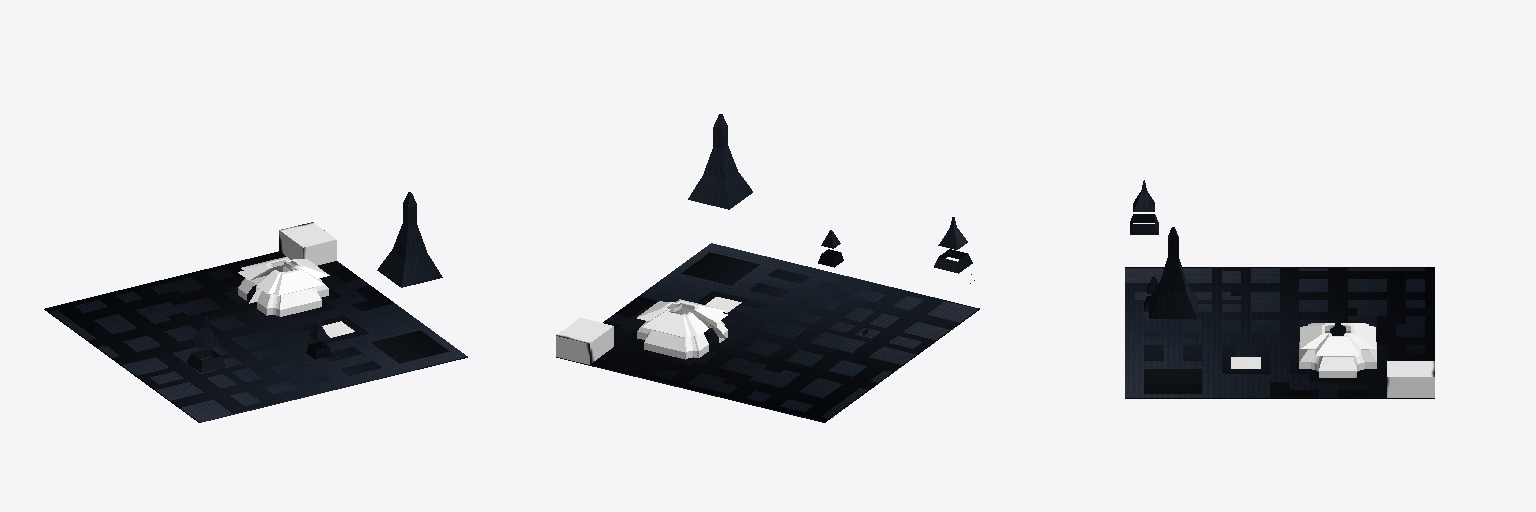
3 renders of one model, left to right at view 1: azimuth 30°, elevation 25°; view 2: azimuth 150°, elevation 25°; view 3: azimuth 270°, elevation 25°, orthographic.
Visible parts, largest first — view 1: piso_Cube.001; view 2: piso_Cube.001; view 3: piso_Cube.001.
Boxes of the visible parts, x1,y1,x2,y2 form: piso_Cube.001: [44, 192, 467, 422]; piso_Cube.001: [556, 114, 979, 422]; piso_Cube.001: [1125, 180, 1434, 398].
Size of the model in its own units: 8 by 4.42 by 8.
2 materials, 1 textured.